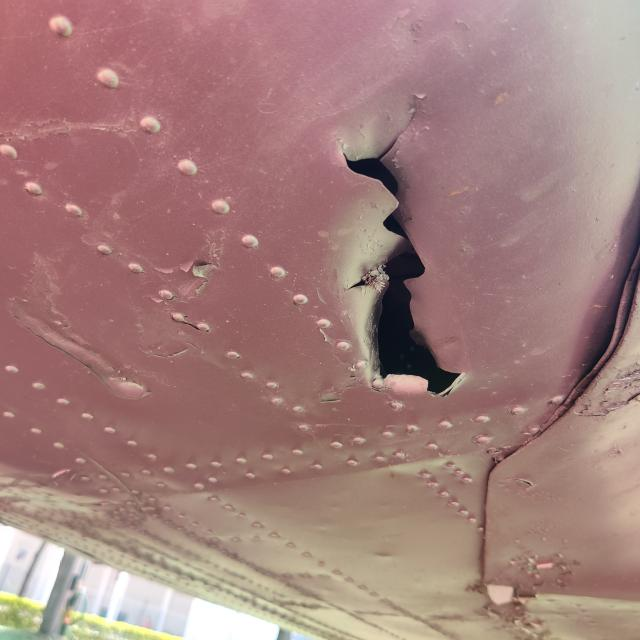crack: (318, 103, 479, 412)
paint-off: (143, 246, 232, 342)
